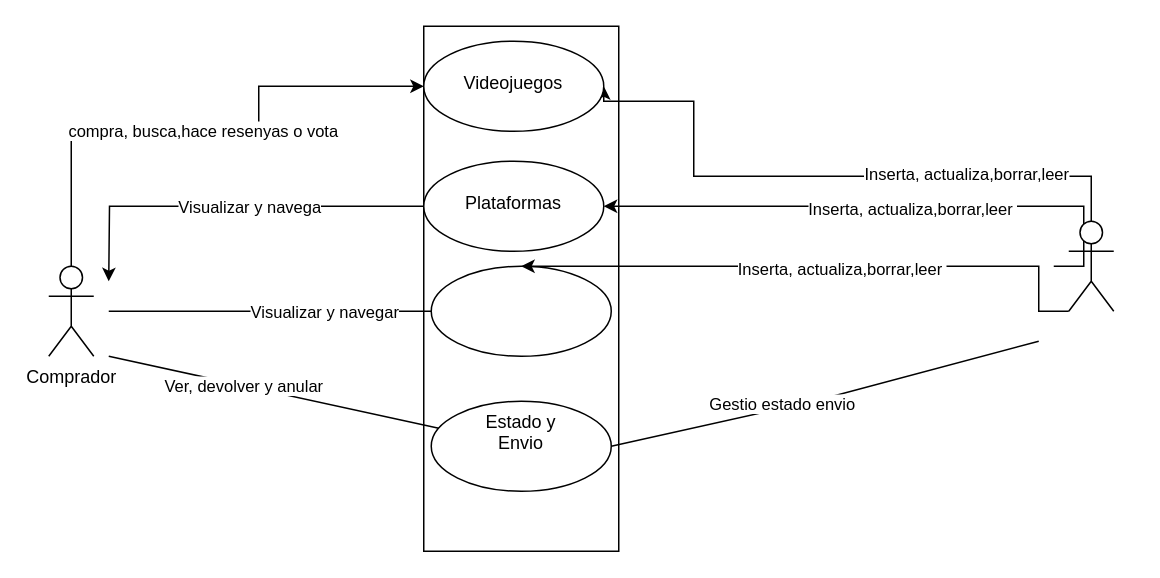
Image size: 1160x578. Some labels were removed from this diagram. Here are the shapes that lost their labels. From the top down, the centre of each, then its label:
pixel 1090 265: Trabajador
pixel 520 310: Genero
